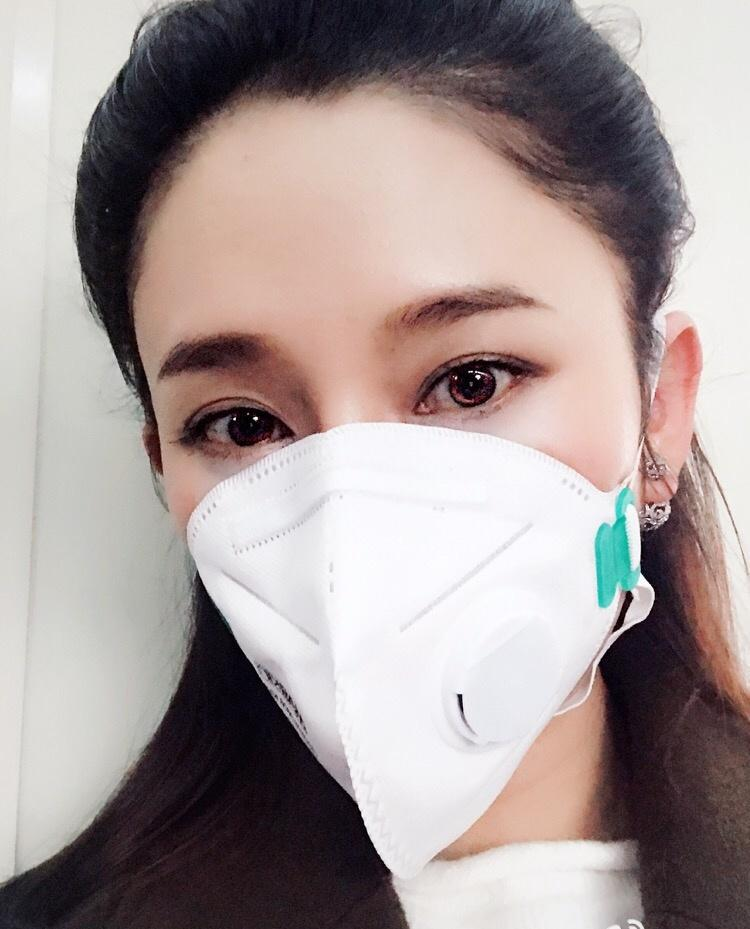OK: (109, 239, 665, 795)
